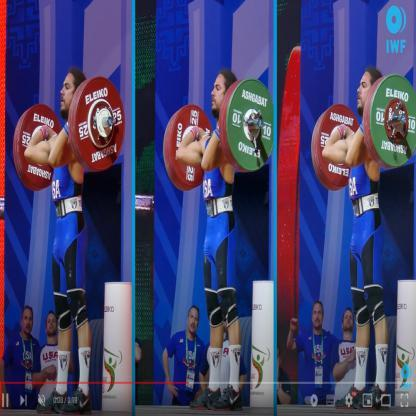Barbell: (258, 117, 266, 133), (106, 115, 115, 129), (401, 113, 408, 128)
